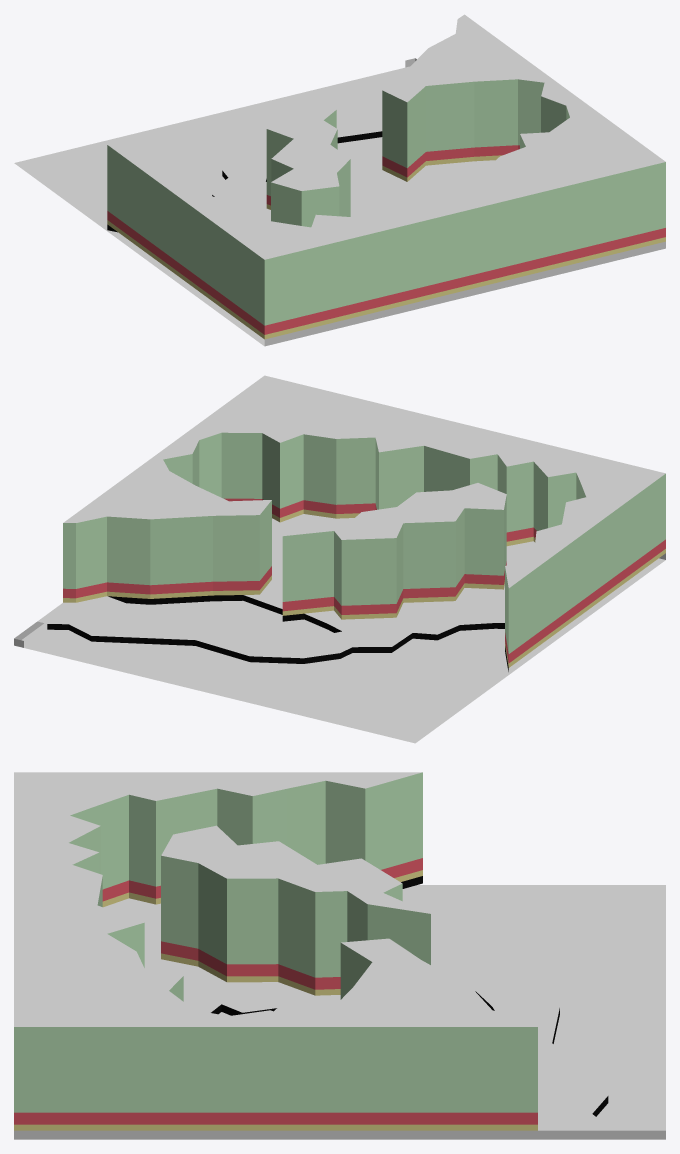
Rendered from Level1.fbx.
The picture shows the model from 3 angles, top to bottom: view 1: azimuth 30°, elevation 25°; view 2: azimuth 150°, elevation 25°; view 3: azimuth 270°, elevation 25°; orthographic projection. The views are drawn at different scales.
Parts seen in each view (by area): view 1: Cube; view 2: Cube; view 3: Cube.
Part boxes in pixels (box(x1,y1,x2,y2)): Cube: box(14, 14, 665, 346); Cube: box(14, 375, 665, 743); Cube: box(14, 772, 665, 1139).
Size of the model in its own units: 4999 by 1031 by 5405.
